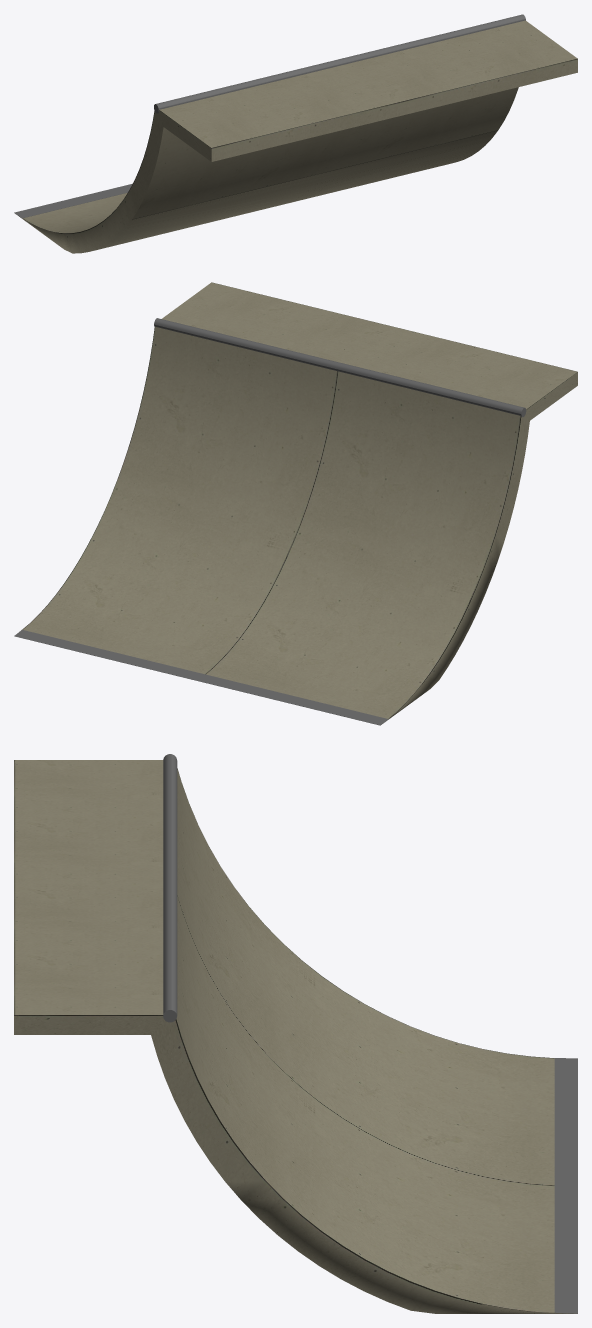
File: quarter.glb
3 renders of one model, top to bottom at view 1: azimuth 30°, elevation 25°; view 2: azimuth 150°, elevation 25°; view 3: azimuth 270°, elevation 25°, orthographic. The views are drawn at different scales.
Visible parts, largest first — view 1: QuarterWood, QuarterCoping, QuarterMetal; view 2: QuarterWood, QuarterCoping, QuarterMetal; view 3: QuarterWood, QuarterMetal, QuarterCoping.
Boxes of the visible parts, x1,y1,x2,y2 form: QuarterWood: [19, 20, 577, 253]; QuarterCoping: [154, 14, 525, 113]; QuarterMetal: [14, 183, 132, 218]; QuarterWood: [19, 282, 577, 721]; QuarterCoping: [154, 318, 526, 416]; QuarterMetal: [14, 629, 388, 725]; QuarterWood: [14, 760, 576, 1313]; QuarterMetal: [554, 1058, 577, 1313]; QuarterCoping: [163, 754, 177, 1022].
Bounding box in the file's own units: 40.48 × 22.44 × 37.71.
2 materials, 2 textured.
